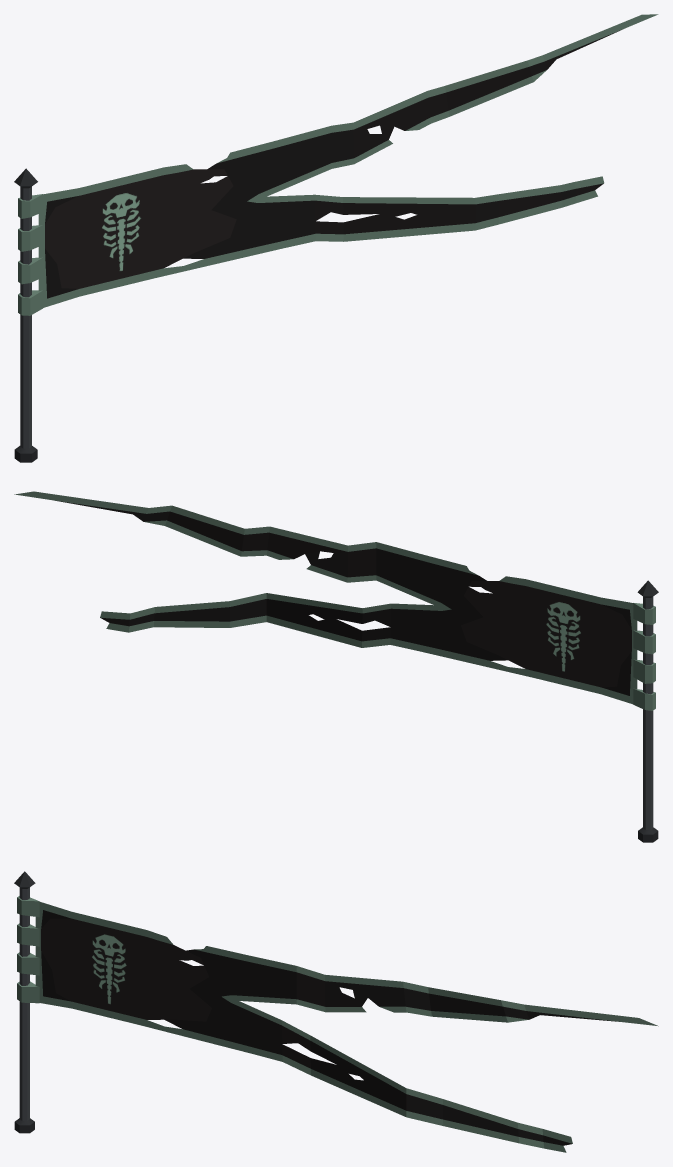
Rendered from SM_Prop_Flag_02.fbx.
The picture shows the model from 3 angles, top to bottom: view 1: azimuth 30°, elevation 25°; view 2: azimuth 150°, elevation 25°; view 3: azimuth 330°, elevation 25°; orthographic projection. The views are drawn at different scales.
Visible parts, largest first — view 1: SM_Prop_Flag_02; view 2: SM_Prop_Flag_02; view 3: SM_Prop_Flag_02.
Part boxes in pixels (<box>): SM_Prop_Flag_02: <box>14,14,658,462</box>; SM_Prop_Flag_02: <box>14,491,658,842</box>; SM_Prop_Flag_02: <box>14,871,658,1152</box>.
Bounding box in the file's own units: 1321 × 537 × 168.
